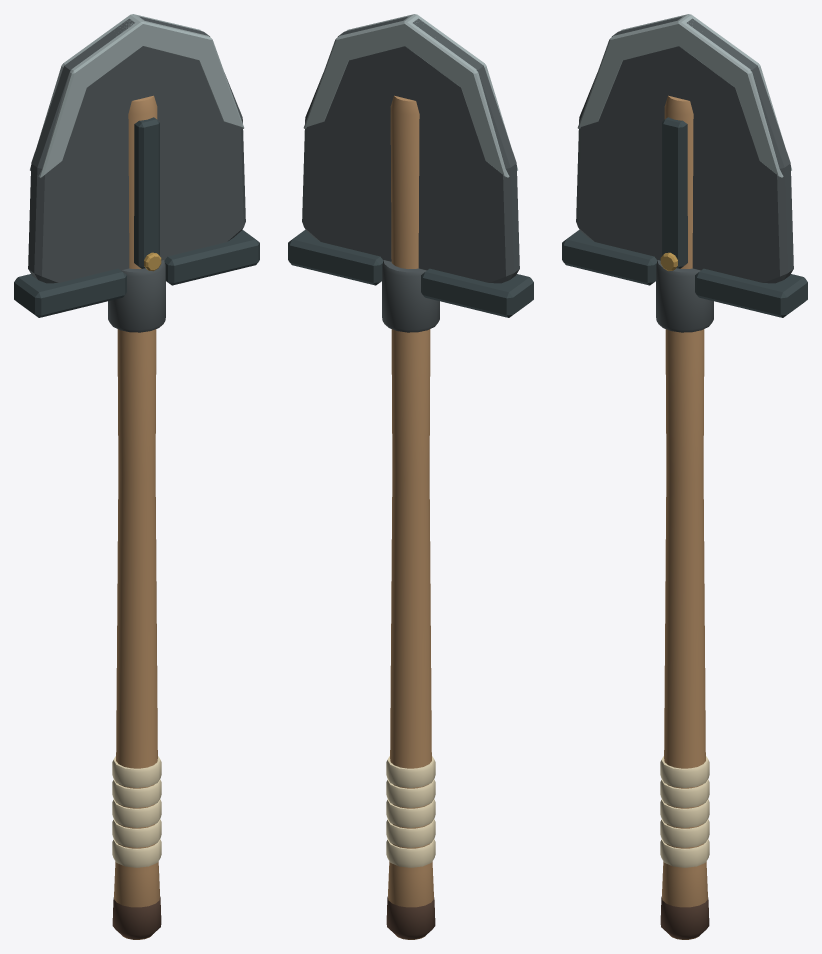
File: tool_shovel.glb
3 views of the same model, side by side, from view 1: azimuth 30°, elevation 25°; view 2: azimuth 150°, elevation 25°; view 3: azimuth 330°, elevation 25° (orthographic).
Visible parts, largest first — view 1: tool_shovel; view 2: tool_shovel; view 3: tool_shovel.
Boxes of the visible parts, x1=… form: tool_shovel: x1=14, y1=14, x2=259, y2=939; tool_shovel: x1=288, y1=14, x2=533, y2=939; tool_shovel: x1=562, y1=14, x2=807, y2=939.
Size of the model in its own units: 0.274 by 1.06 by 0.068.
